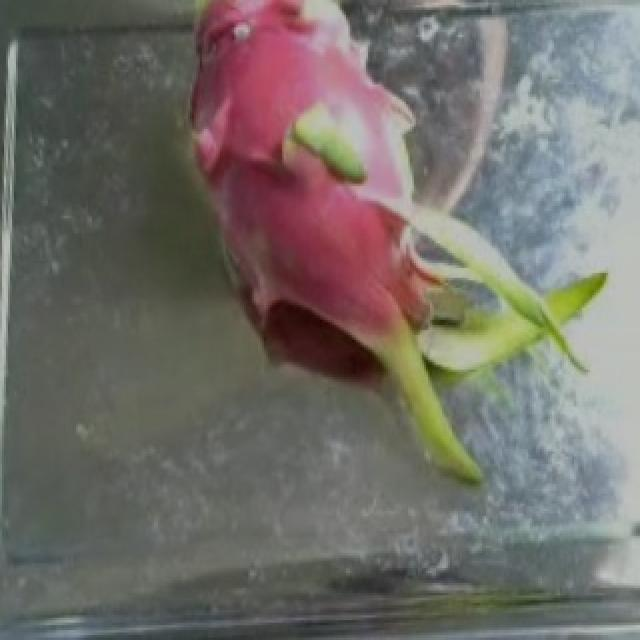fruit: (184, 32, 624, 506)
